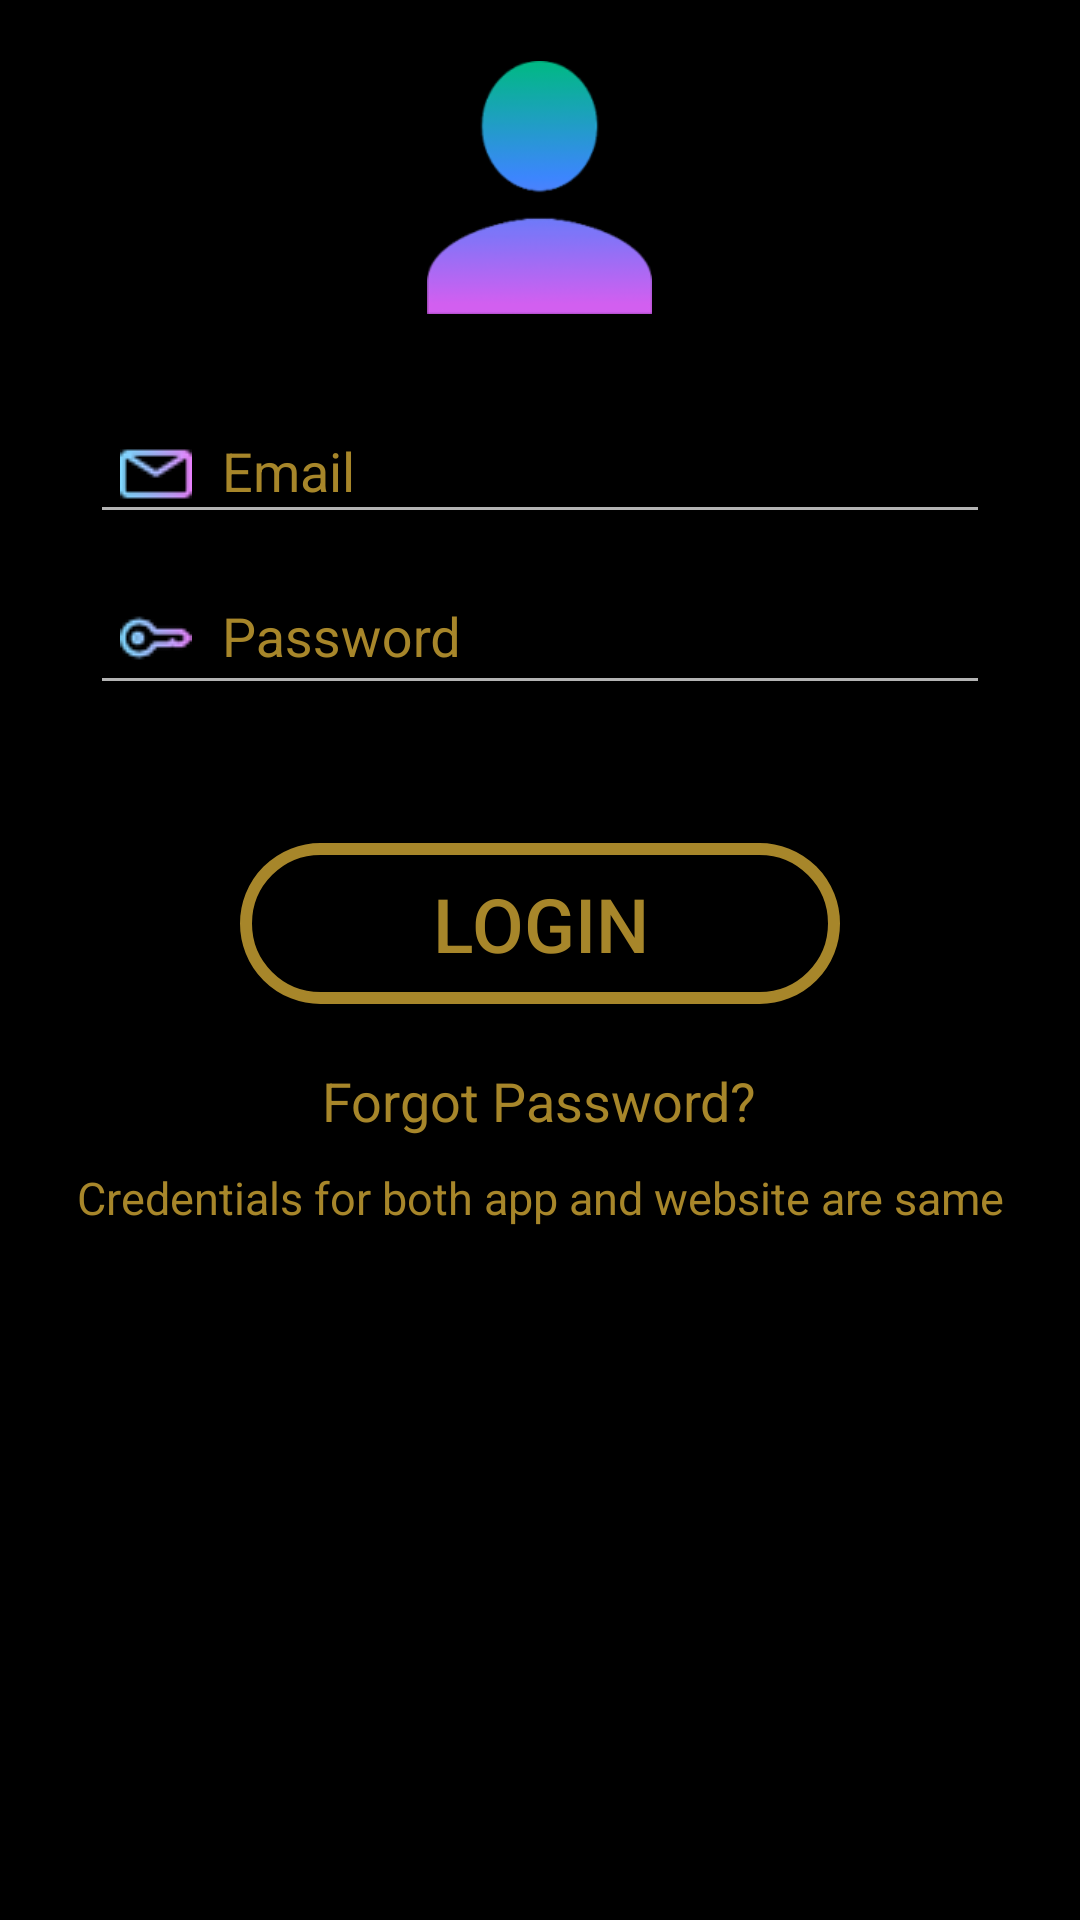

Where icons sit on this 1080 × 1920 app screen, as (x1, y1, x2, y2):
profile: (427, 61, 652, 314)
